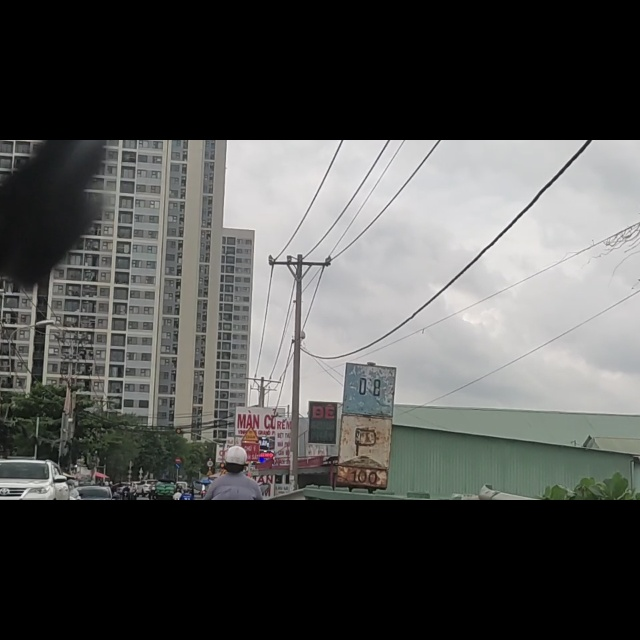bien_cam: (241, 507, 260, 537)
